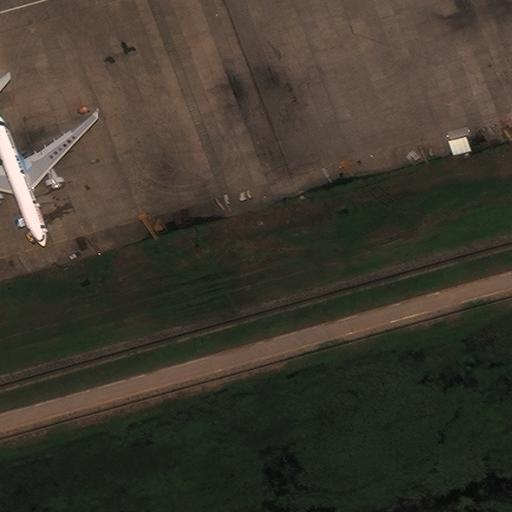Large Civil Transport: (0, 87, 97, 244)
